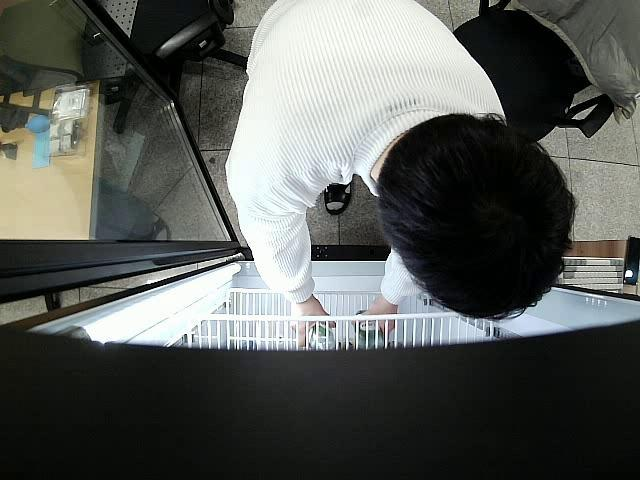18_trevi: (348, 309, 384, 350), (290, 320, 339, 350)
